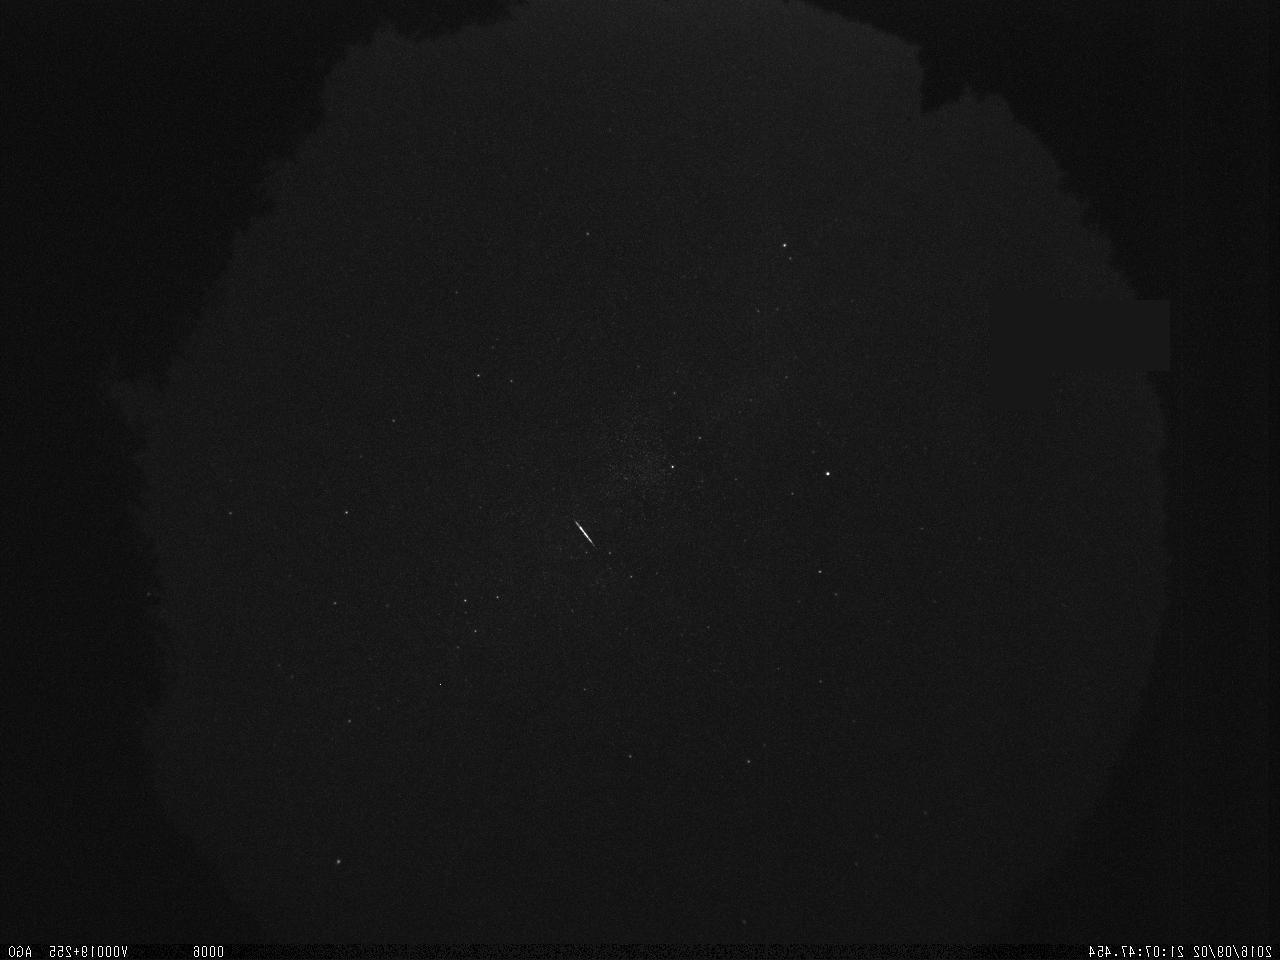meteor: (572, 512, 601, 556)
